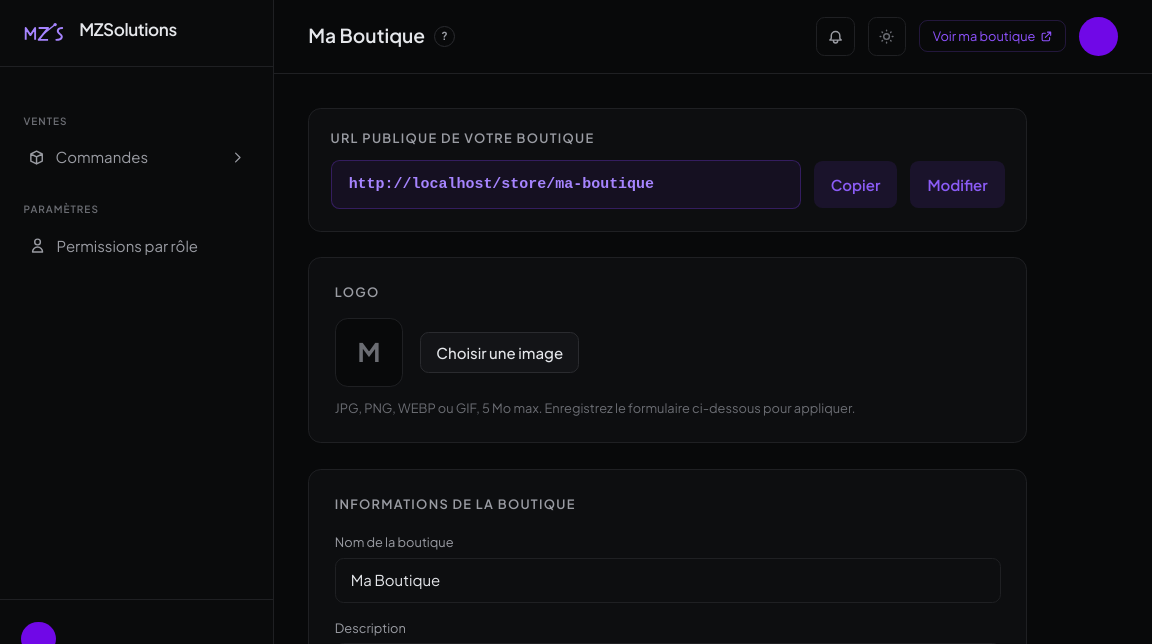
Scenario: StorePage › edits the name and saves, showing a success confirmation
The width and height of the screenshot is (1152, 644).
Replace the text in the field showing "Ma Boutique" with "Nouvelle Boutique": (668, 580) [335,558,1000,603]
(page scrolled)
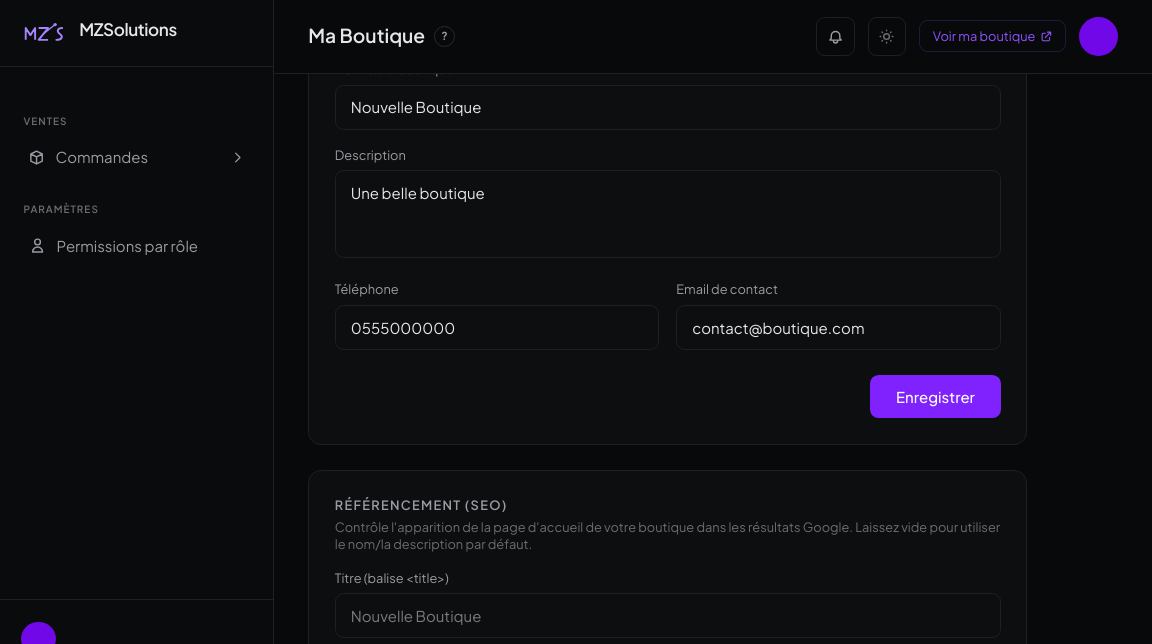
Click the button "Enregistrer": (935, 397) [870,375,1000,418]
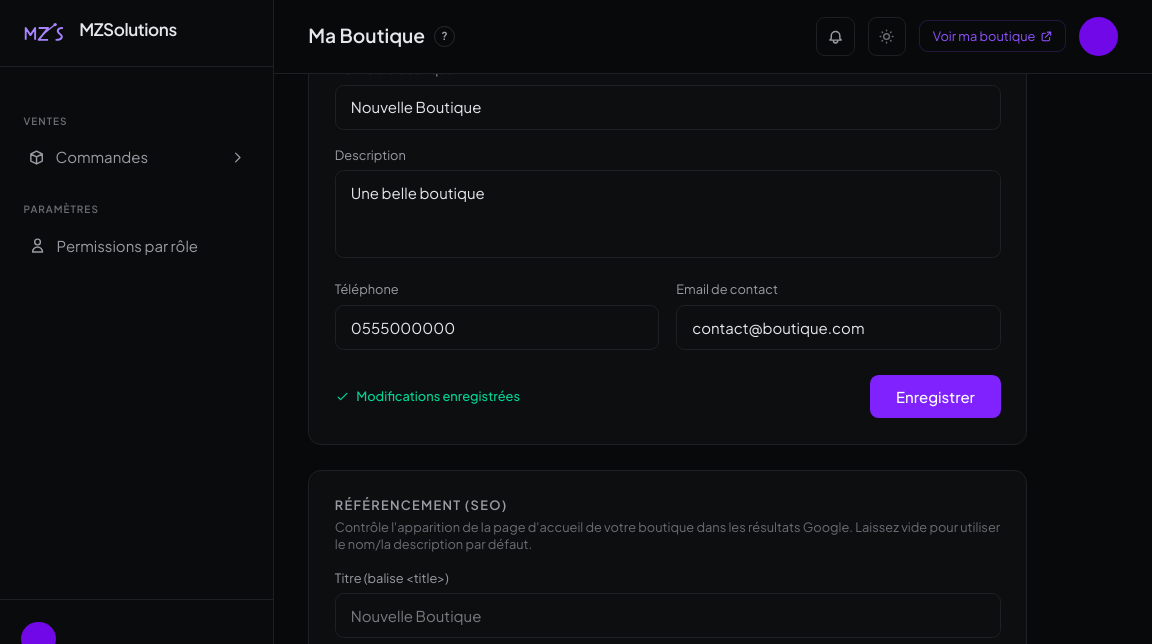
Expected: the text "Modifications enregistrées" is shown, [335,388,520,405]
